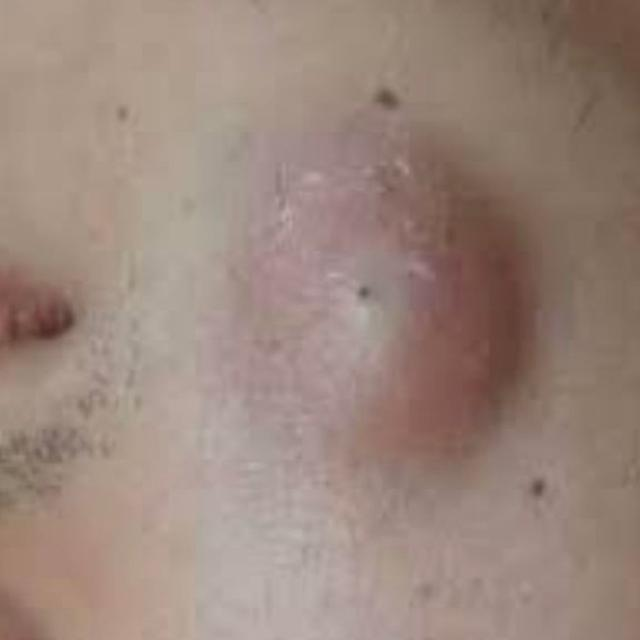nodule: (222, 127, 552, 516)
